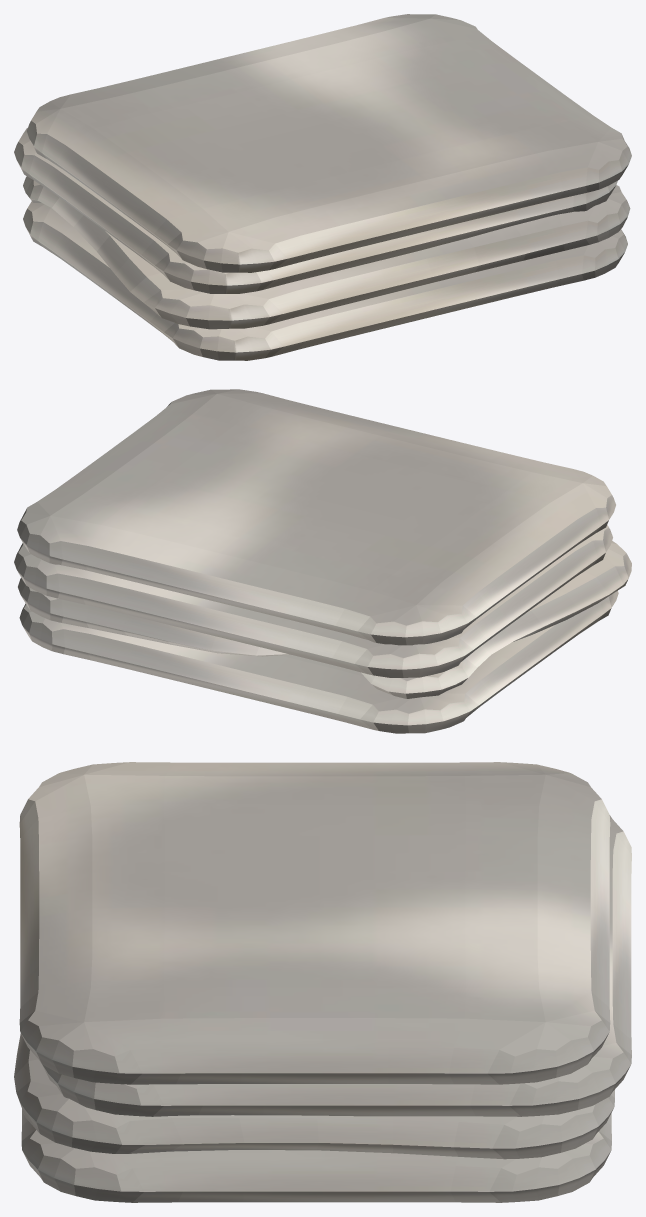
The model's file is Sheets.glb.
3 views of the same model, one above another, from view 1: azimuth 30°, elevation 25°; view 2: azimuth 150°, elevation 25°; view 3: azimuth 270°, elevation 25° (orthographic). The views are drawn at different scales.
Visible parts, largest first — view 1: Cube.003, Cube.001, Cube, Cube.002; view 2: Cube.003, Cube, Cube.002, Cube.001; view 3: Cube.003, Cube, Cube.002, Cube.001.
Boxes of the visible parts, x1,y1,x2,y2 form: Cube.003: [27, 14, 631, 272]; Cube.001: [23, 176, 630, 329]; Cube: [23, 201, 627, 360]; Cube.002: [14, 128, 617, 293]; Cube.003: [17, 389, 615, 645]; Cube: [19, 590, 618, 733]; Cube.002: [14, 524, 612, 677]; Cube.001: [18, 541, 631, 698]; Cube.003: [19, 762, 610, 1084]; Cube: [21, 1109, 611, 1202]; Cube.002: [42, 815, 631, 1116]; Cube.001: [14, 1033, 614, 1159].
Bounding box in the file's own units: 0.6216 × 0.1603 × 0.5135.
1 material, 1 textured.
